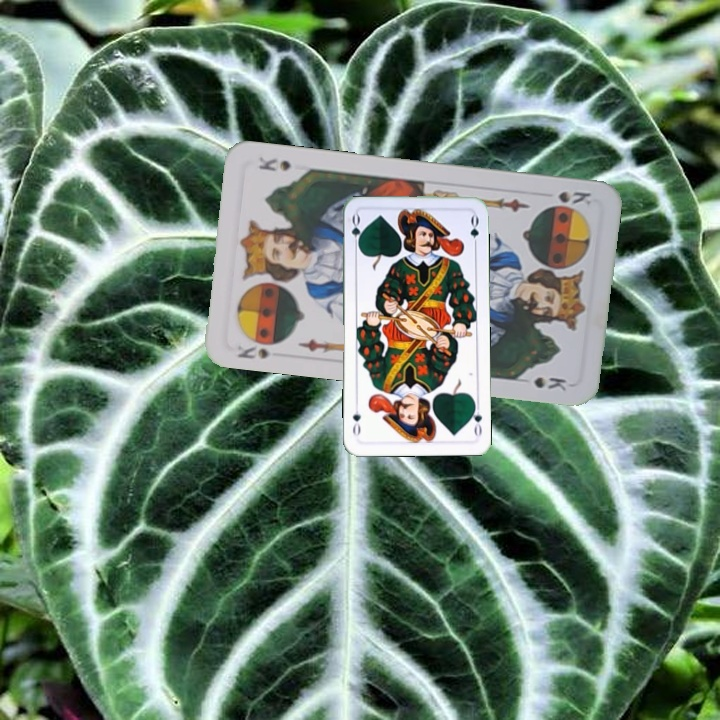GO: (467, 398, 484, 439), (348, 211, 363, 252)
SK: (233, 341, 287, 362), (554, 187, 594, 208)
